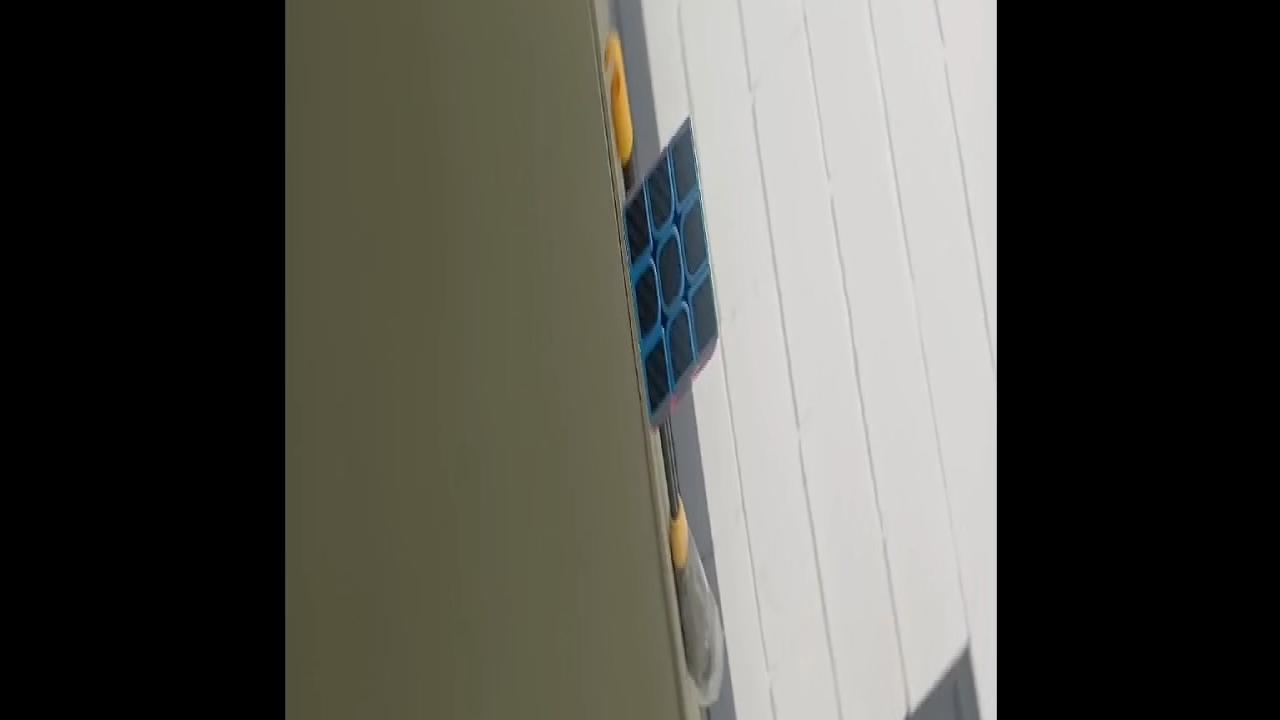Cube: (622, 109, 720, 432)
